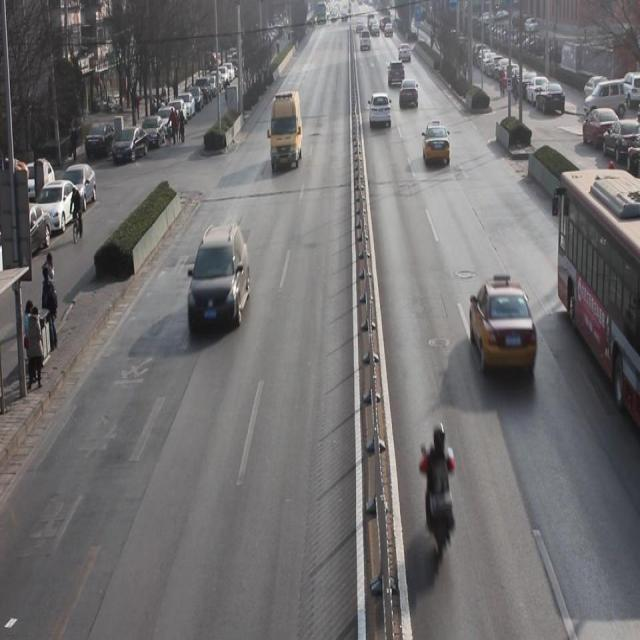car: (188, 219, 252, 346), (468, 278, 540, 382), (422, 120, 449, 172), (370, 93, 393, 135), (399, 80, 421, 111), (387, 61, 407, 90)
truck: (271, 89, 303, 172)
van: (556, 168, 640, 420)
